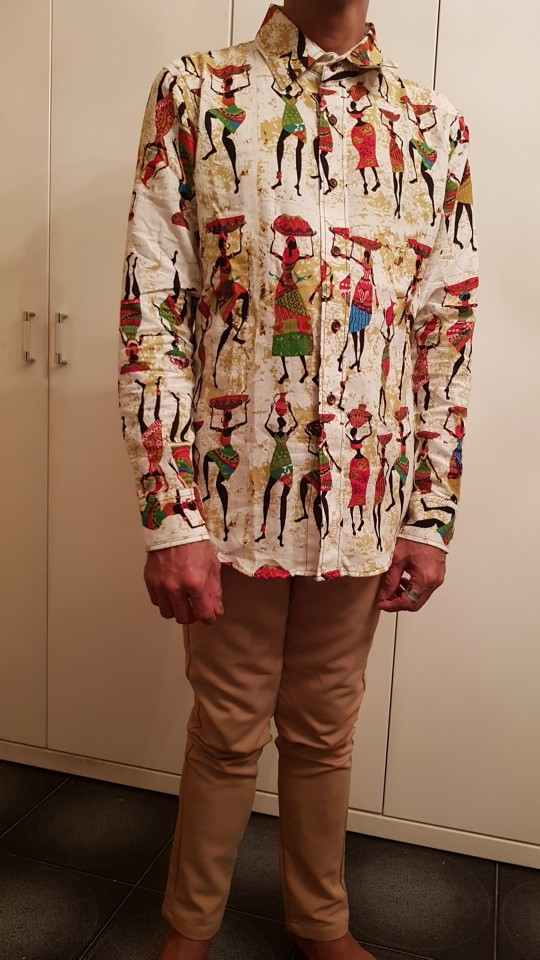shirts: (126, 32, 476, 592)
